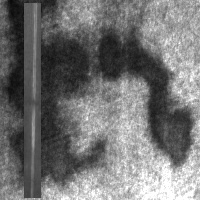patches: (3, 1, 86, 178), (96, 28, 194, 167)
scratches: (24, 3, 41, 198)
